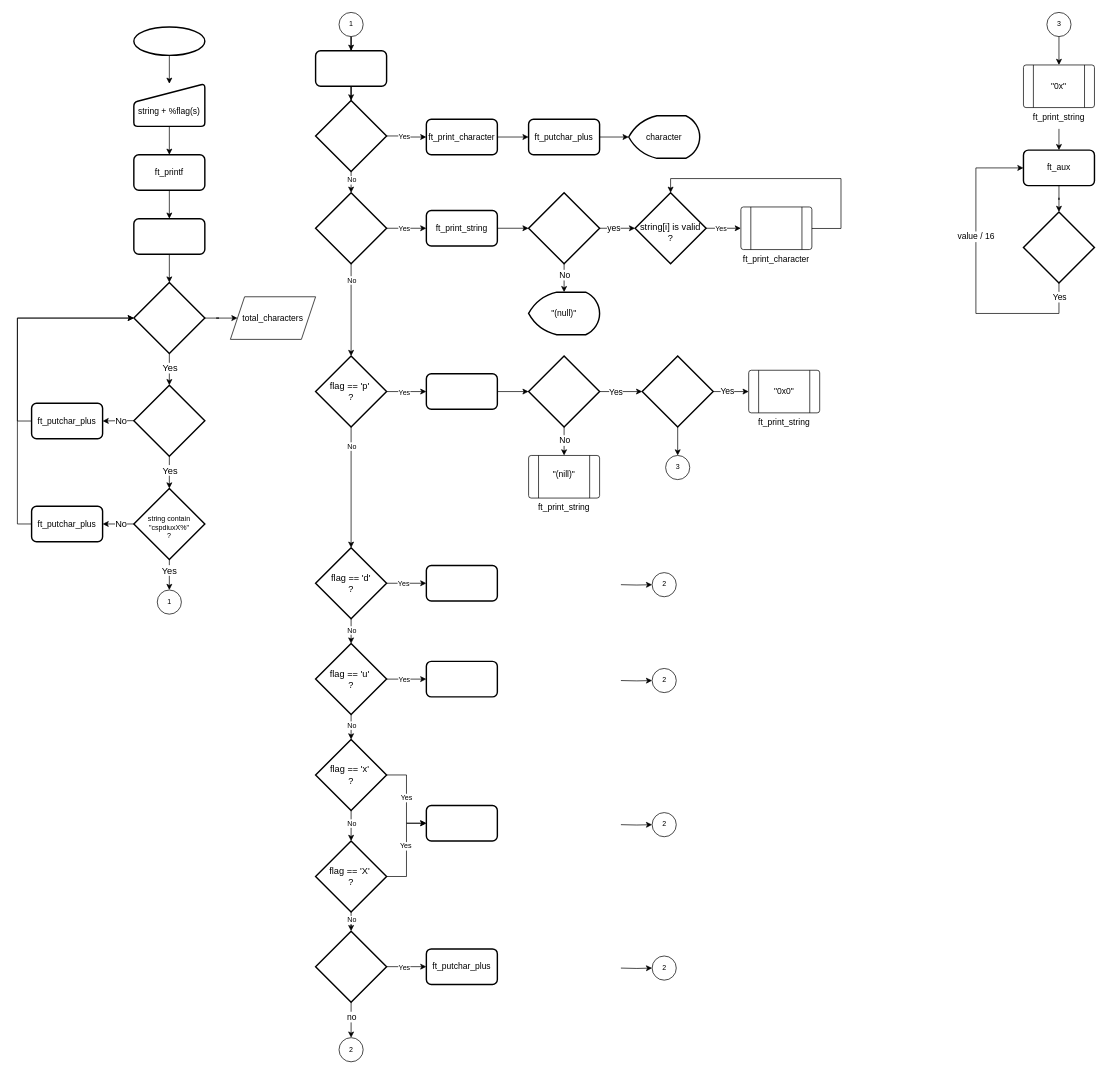
Some shapes in this 1108 by 1074 pixel diagram are drawn without their labels. Each missing label, with the centre of its shape:
"flag == '%' ?" belongs at point 351,966.
"flag == 'c' ?" belongs at point 351,135.
"flag == 's' ?" belongs at point 351,228.
"ft_filter_flags" belongs at point 351,68.
"ft_print_decimal" belongs at point 461,582.
"ft_print_hex" belongs at point 461,822.
"ft_print_pointer" belongs at point 461,391.
"ft_print_positive_int" belongs at point 461,678.
"ft_printf_core" belongs at point 169,236.
"start" belongs at point 169,41.
"string == '%' && string + 1 is valid?" belongs at point 169,420.
"string is valid ?" belongs at point 564,228.
"string is valid?" belongs at point 169,318.
"value != 0 ?" belongs at point 1058,247.
"value == 0 ?" belongs at point 677,391.
"value is valid ?" belongs at point 564,391.
